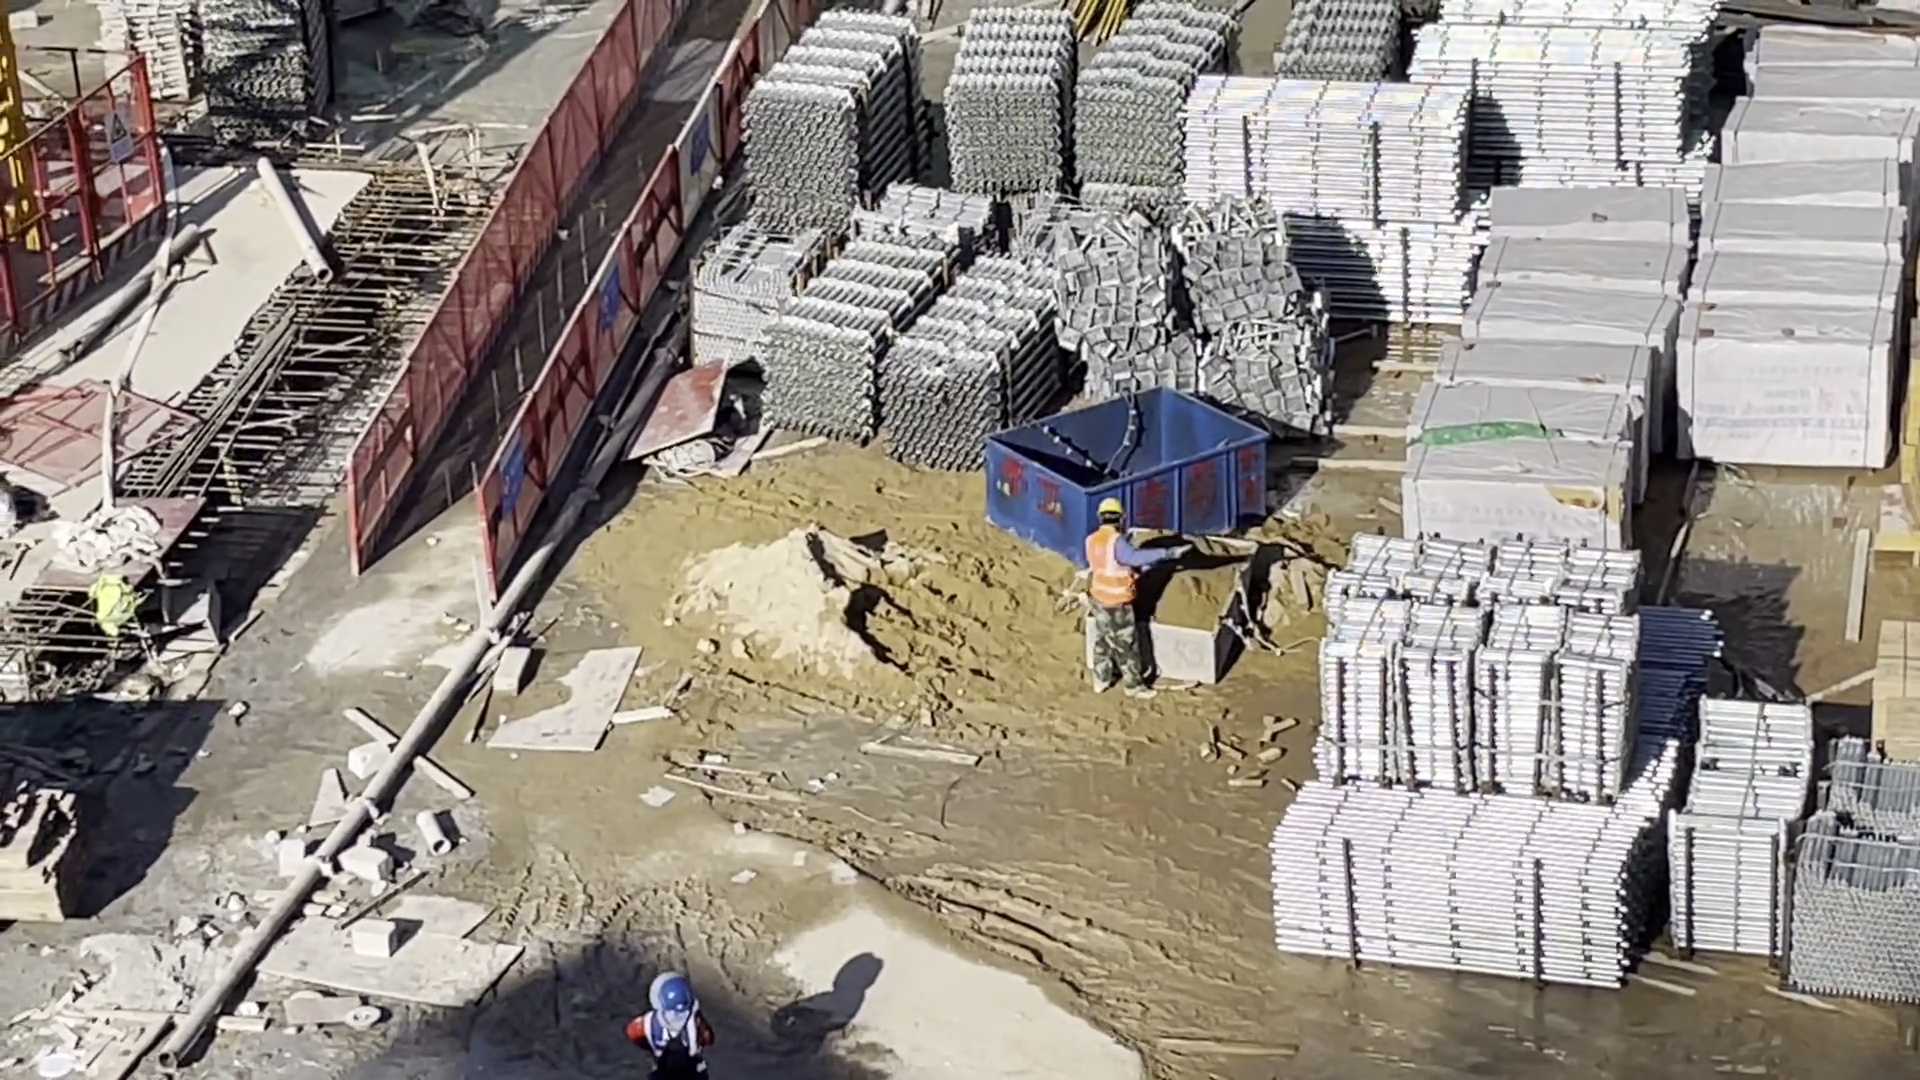board: (1874, 616, 1920, 752)
fence: (359, 1, 756, 579)
helmet: (657, 977, 694, 1014), (1096, 498, 1124, 516)
hopper: (988, 389, 1267, 570), (1132, 524, 1258, 681)
person: (1086, 500, 1154, 697), (629, 979, 710, 1080)
scaffold: (1317, 534, 1636, 801), (1262, 783, 1648, 984), (1188, 72, 1470, 324), (771, 242, 1069, 458), (946, 3, 1224, 199), (1413, 16, 1697, 166), (742, 12, 916, 227), (1782, 739, 1920, 1002), (1674, 693, 1798, 954), (201, 1, 335, 124), (97, 3, 206, 100), (1284, 1, 1398, 84)
slogan: (497, 431, 523, 514), (597, 254, 622, 335)
vest: (1089, 533, 1132, 606), (643, 1012, 696, 1060)
